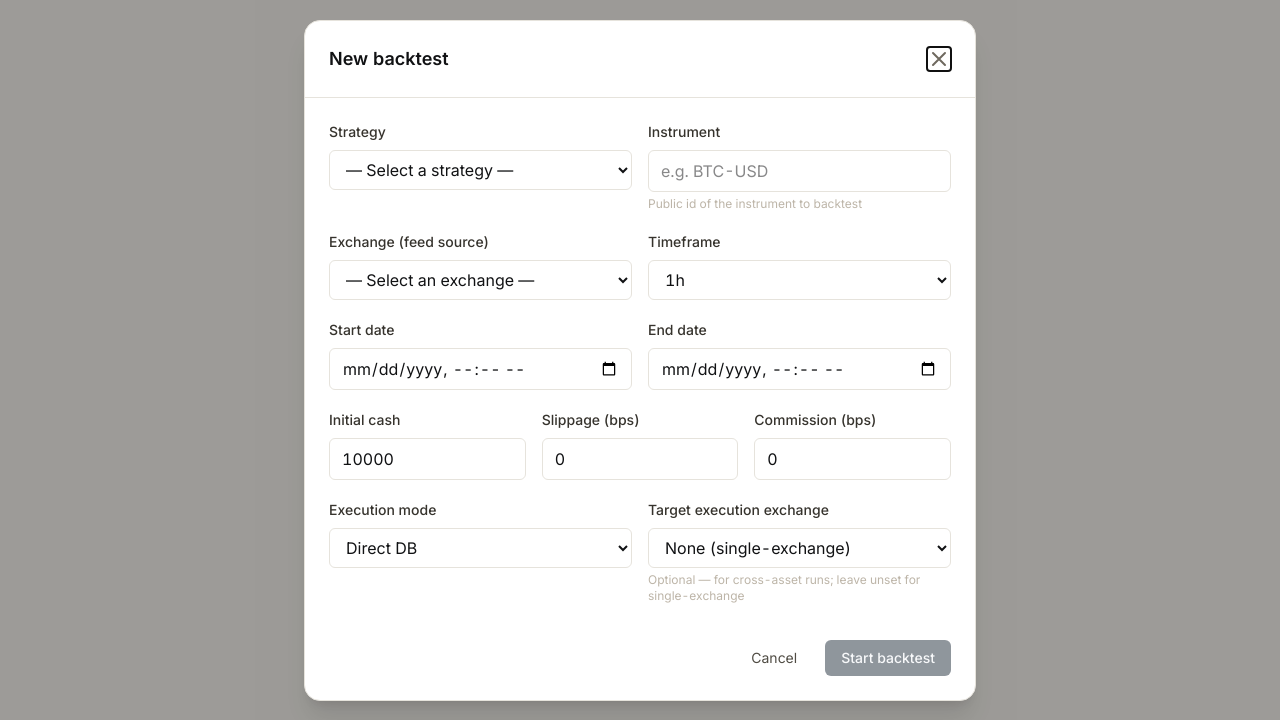
Test: BacktestCreateForm › surfaces the error message when the mutation rejects with an Error
This screenshot has width=1280, height=720.
Select "MACDCrossover" in the dropdown labelled "Strategy": {"x": 480, "y": 170} [329,150,632,190]
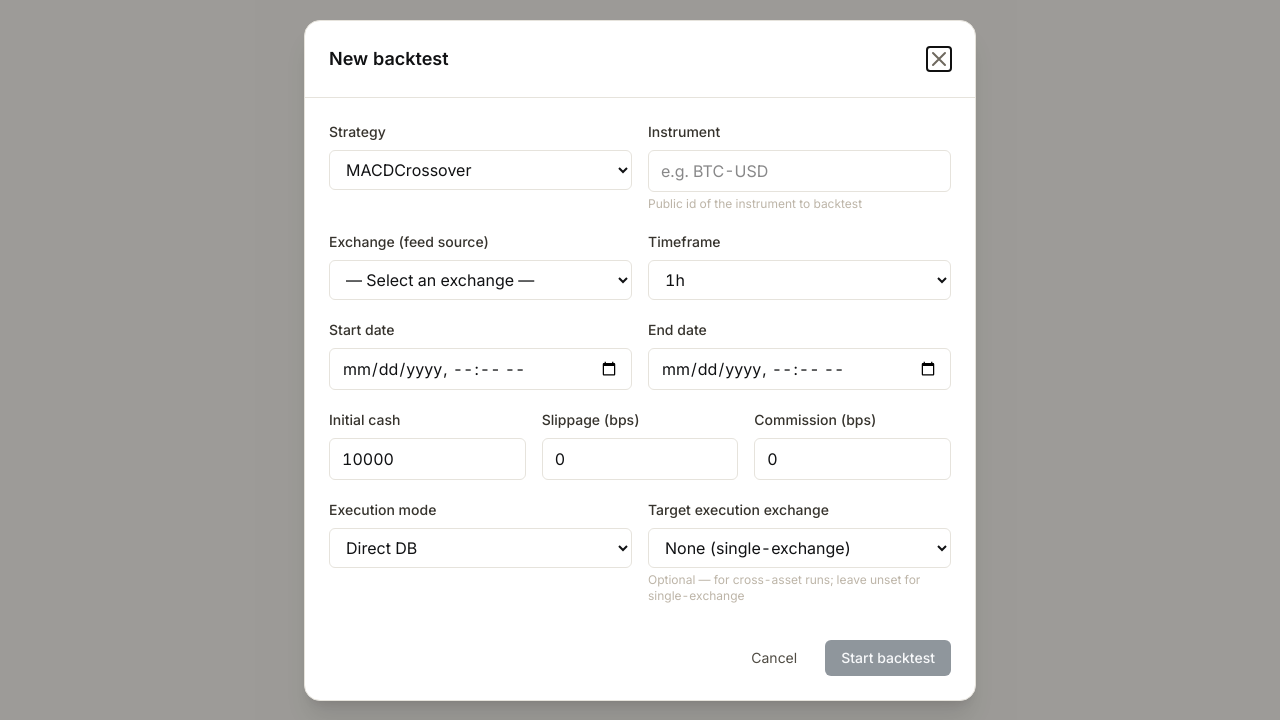
In the field labelled "Instrument": {"x": 800, "y": 170} [648,150,951,192], type "BTC-USD"
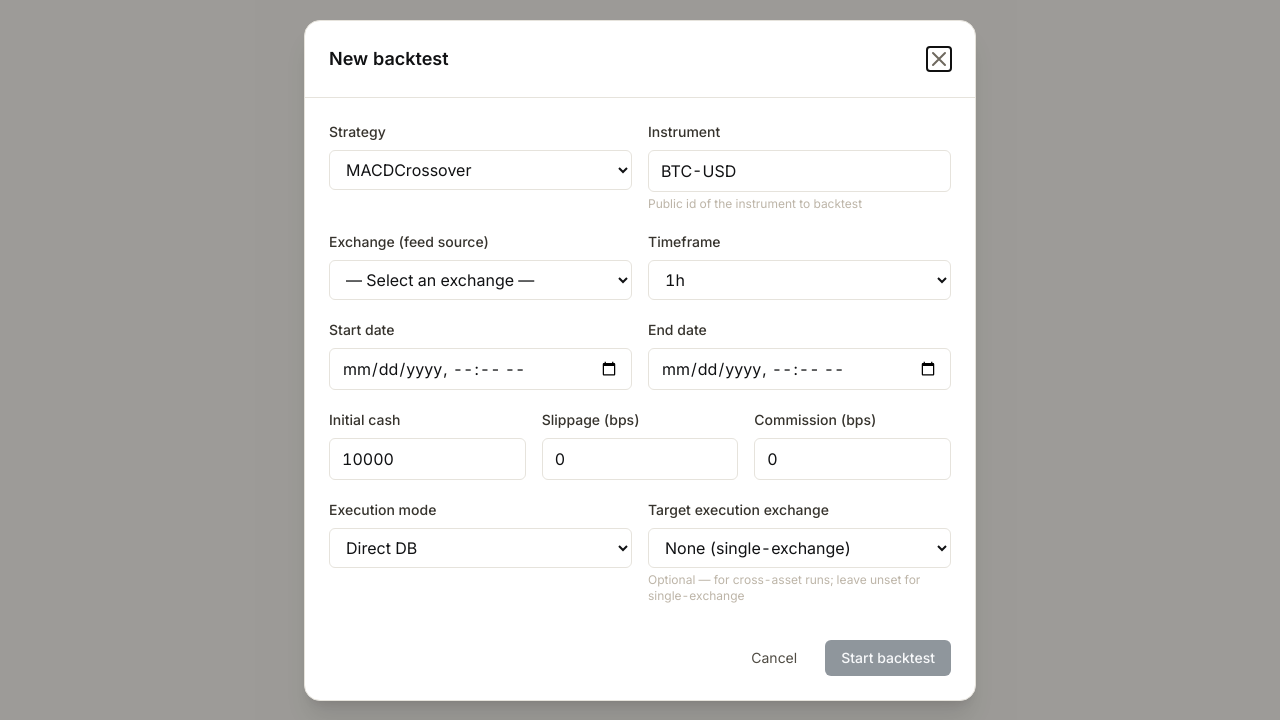
Select "kraken" in the dropdown labelled "Exchange (feed source)": {"x": 480, "y": 280} [329,260,632,300]
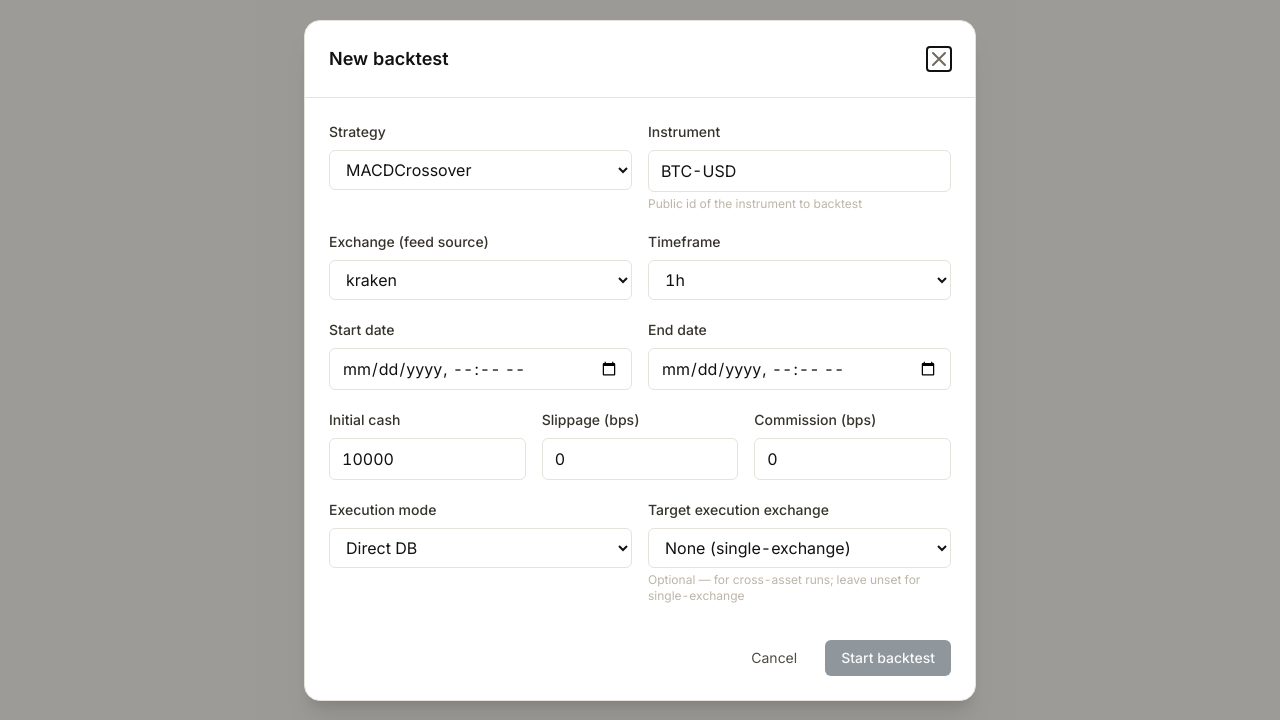
In the field labelled "Start date": {"x": 480, "y": 368} [329,348,632,390], type "2026-01-01T00:00"
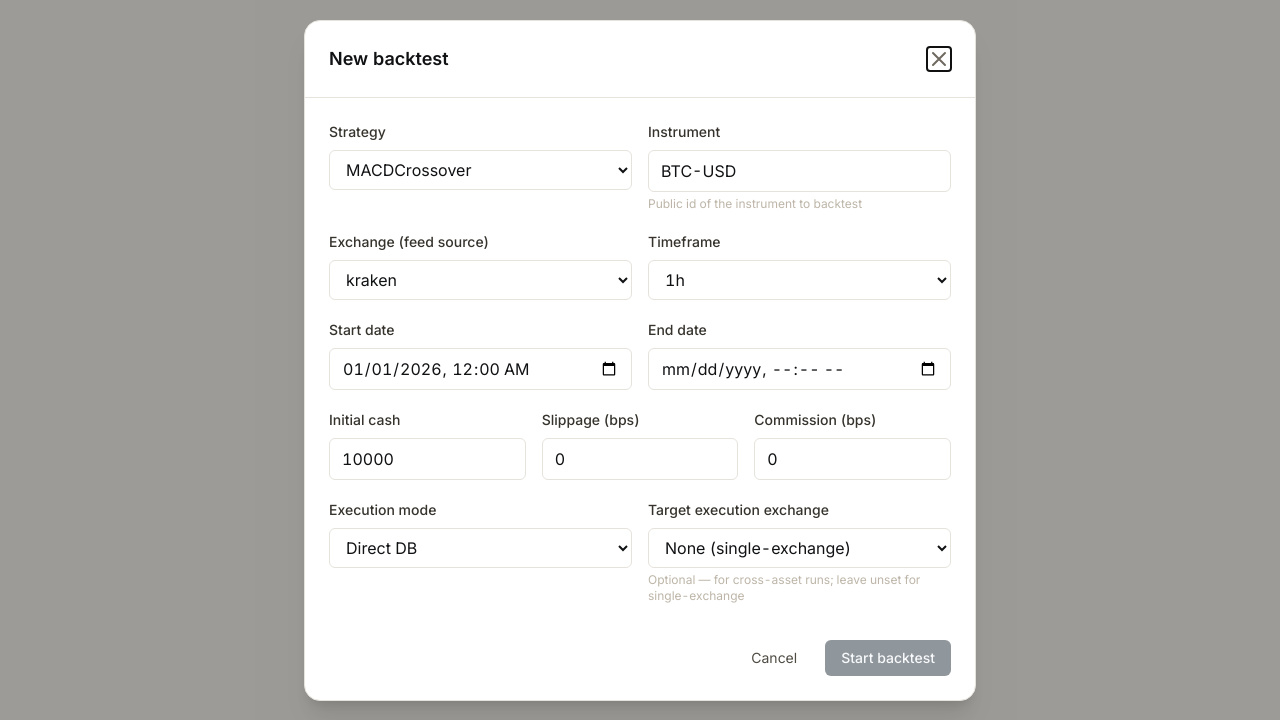
In the field labelled "End date": {"x": 800, "y": 368} [648,348,951,390], type "2026-02-01T00:00"
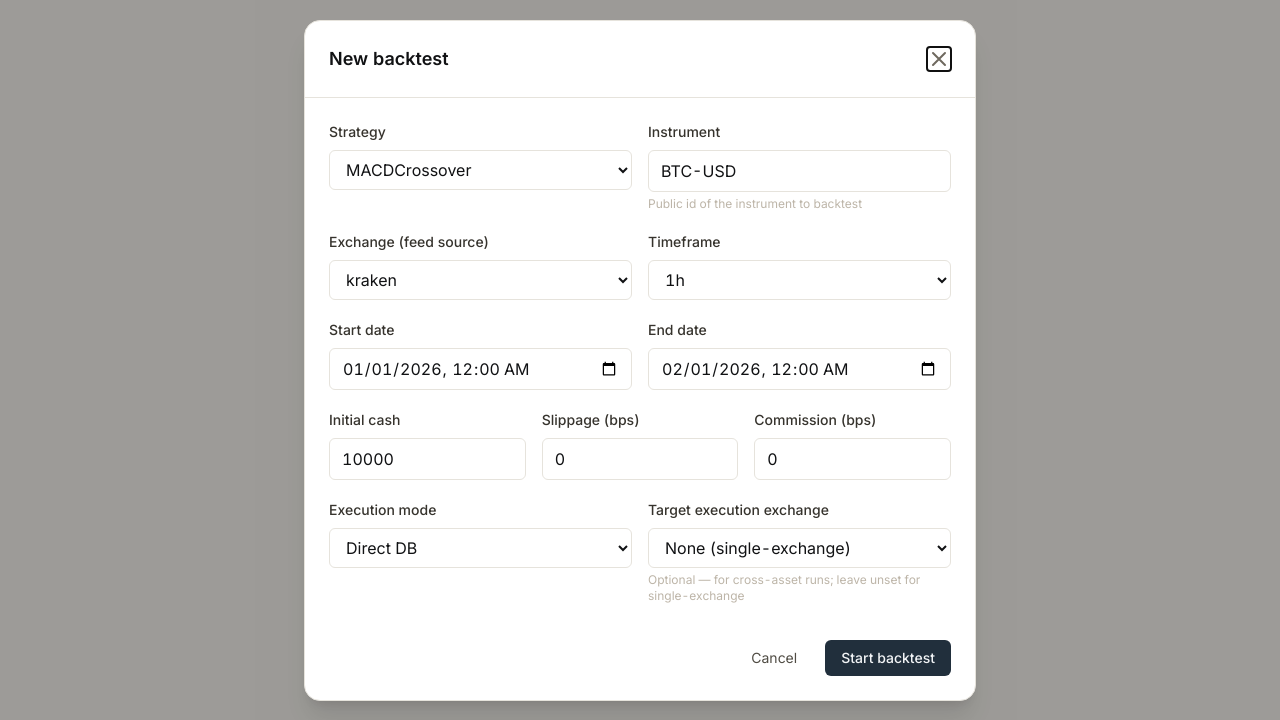
Click the button "Start backtest": {"x": 888, "y": 658} [825,640,951,676]
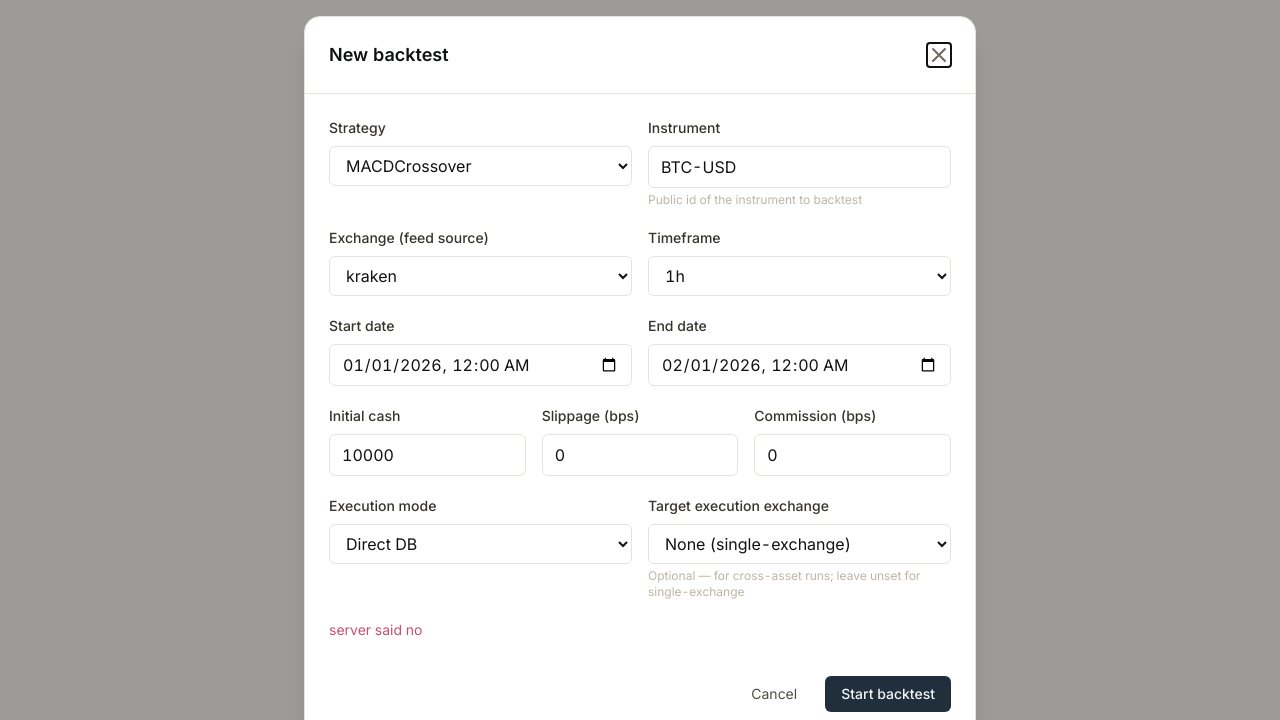
Expected: the text "server said no" is shown, [329,621,422,638]
